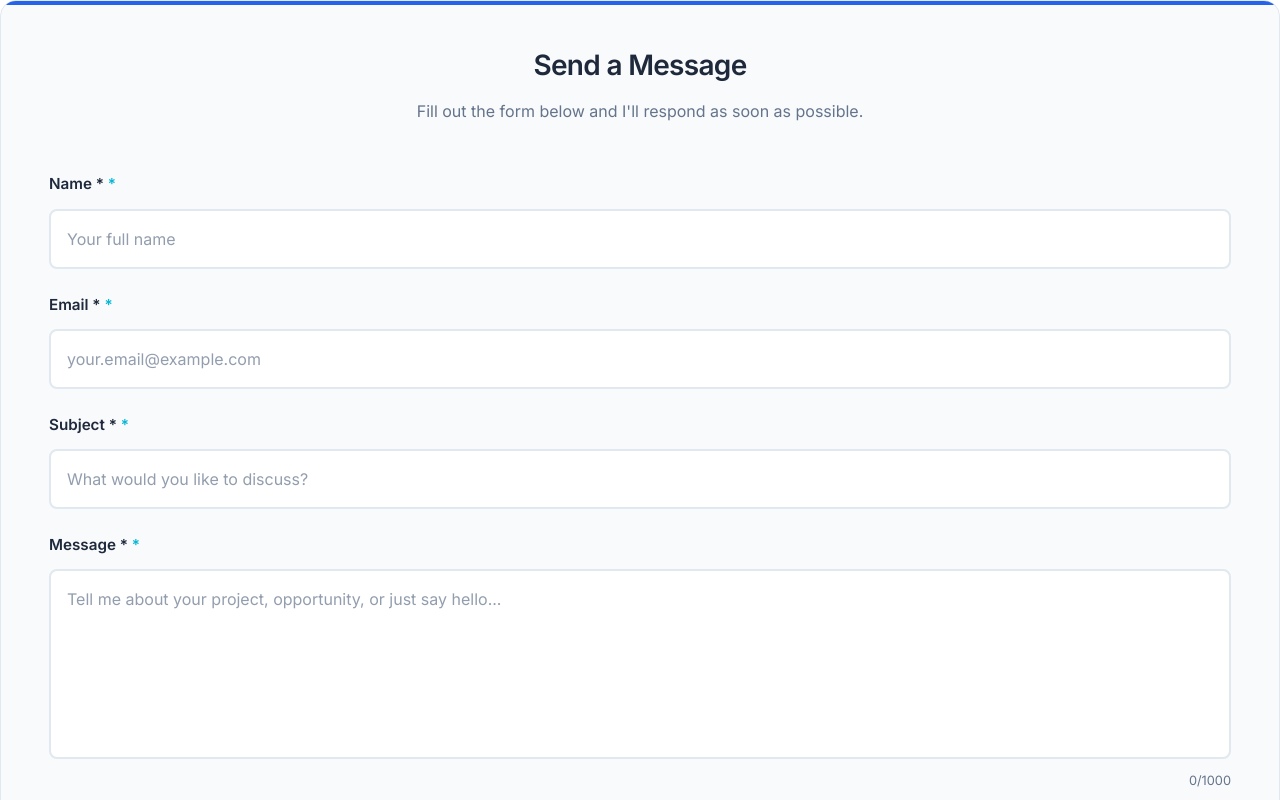
Test: ContactForm › Form Field Validation › Email Field › should show error when email is empty on blur
This screenshot has width=1280, height=800.
Step 1. Click the field labelled "Email *" → (640, 359), box [49,329,1231,389]
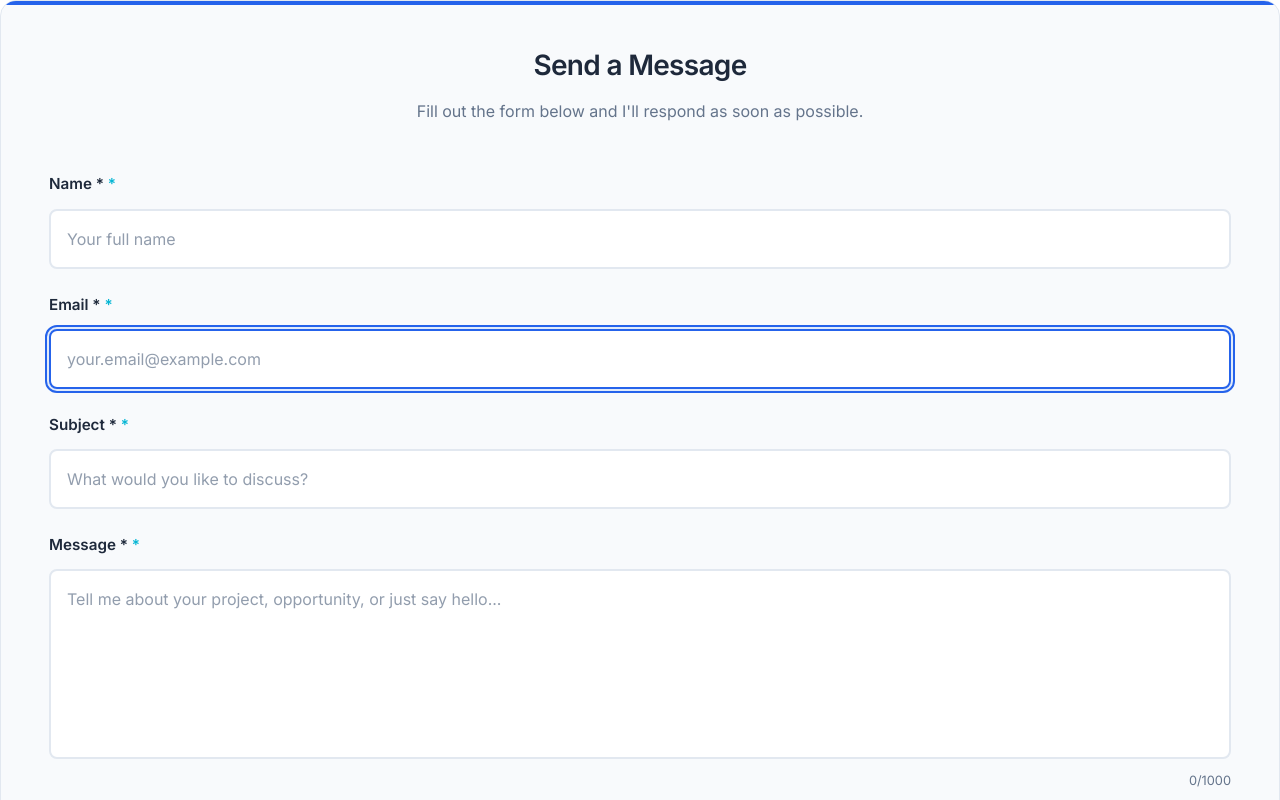
Step 2. Press Tab
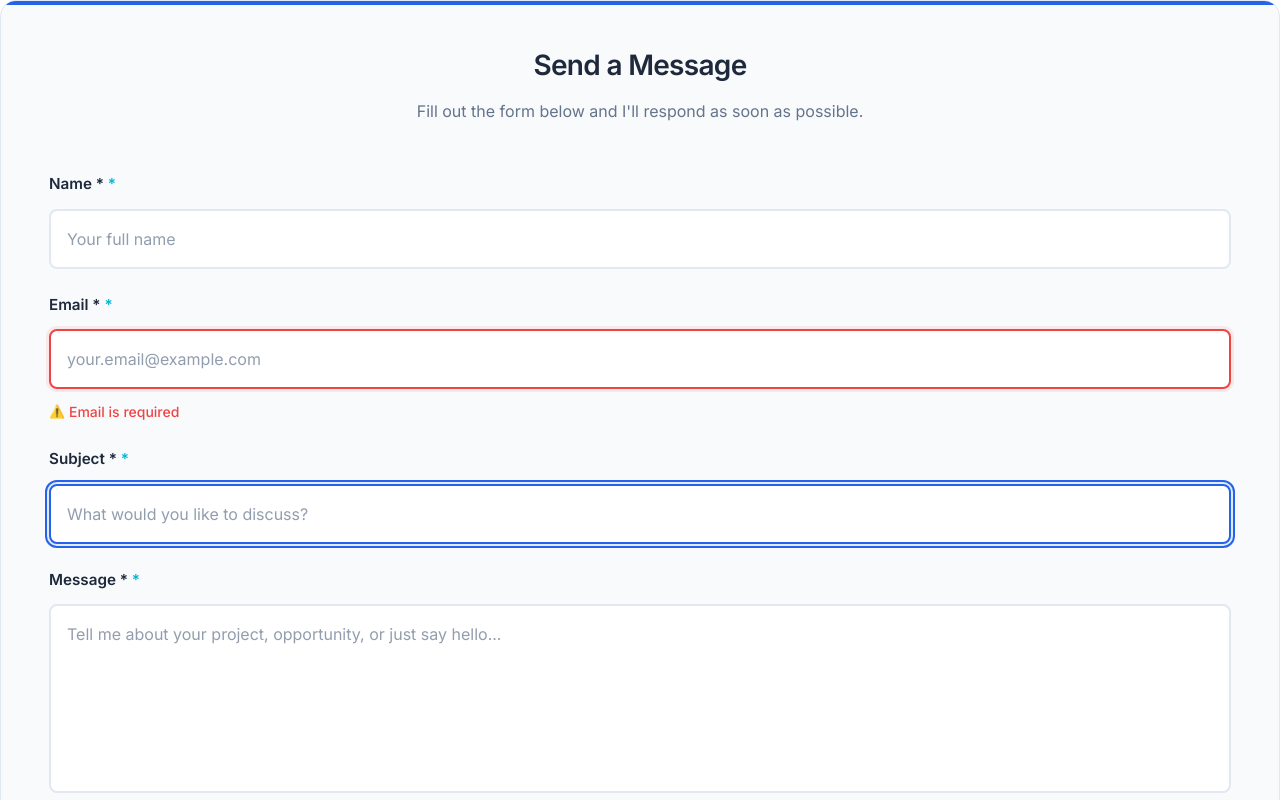
Now the text "Email is required" is shown, box [69,403,179,420]
